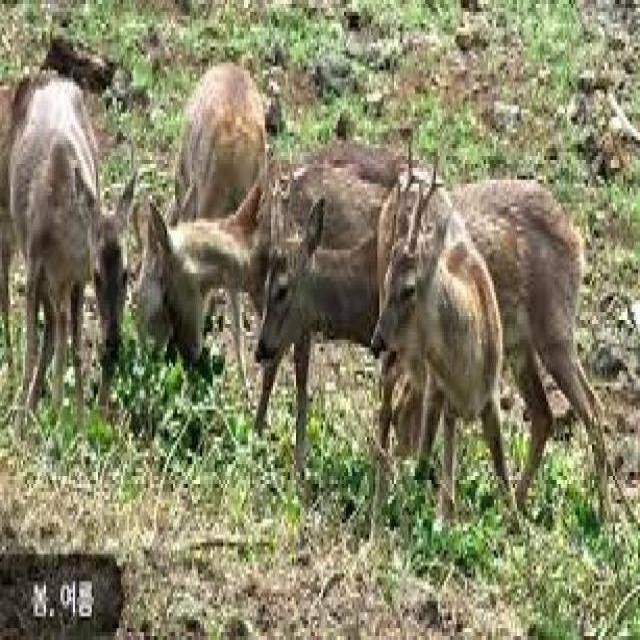deer: (379, 142, 506, 554), (5, 63, 130, 400), (260, 182, 376, 397), (148, 193, 256, 380)
